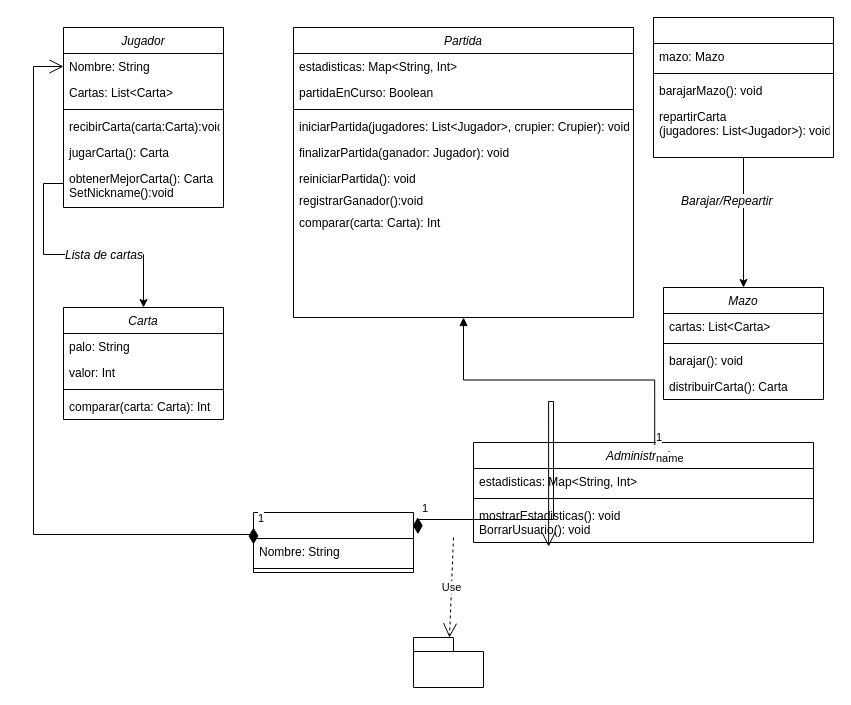
This 851x705 diagram has some shape labels left out. The box of each missing label's shape, as (x1, y1, x2, y2) in pixels:
Croupier: (652, 16, 834, 158)
login: (412, 636, 484, 688)
Usuario: (252, 512, 414, 572)
